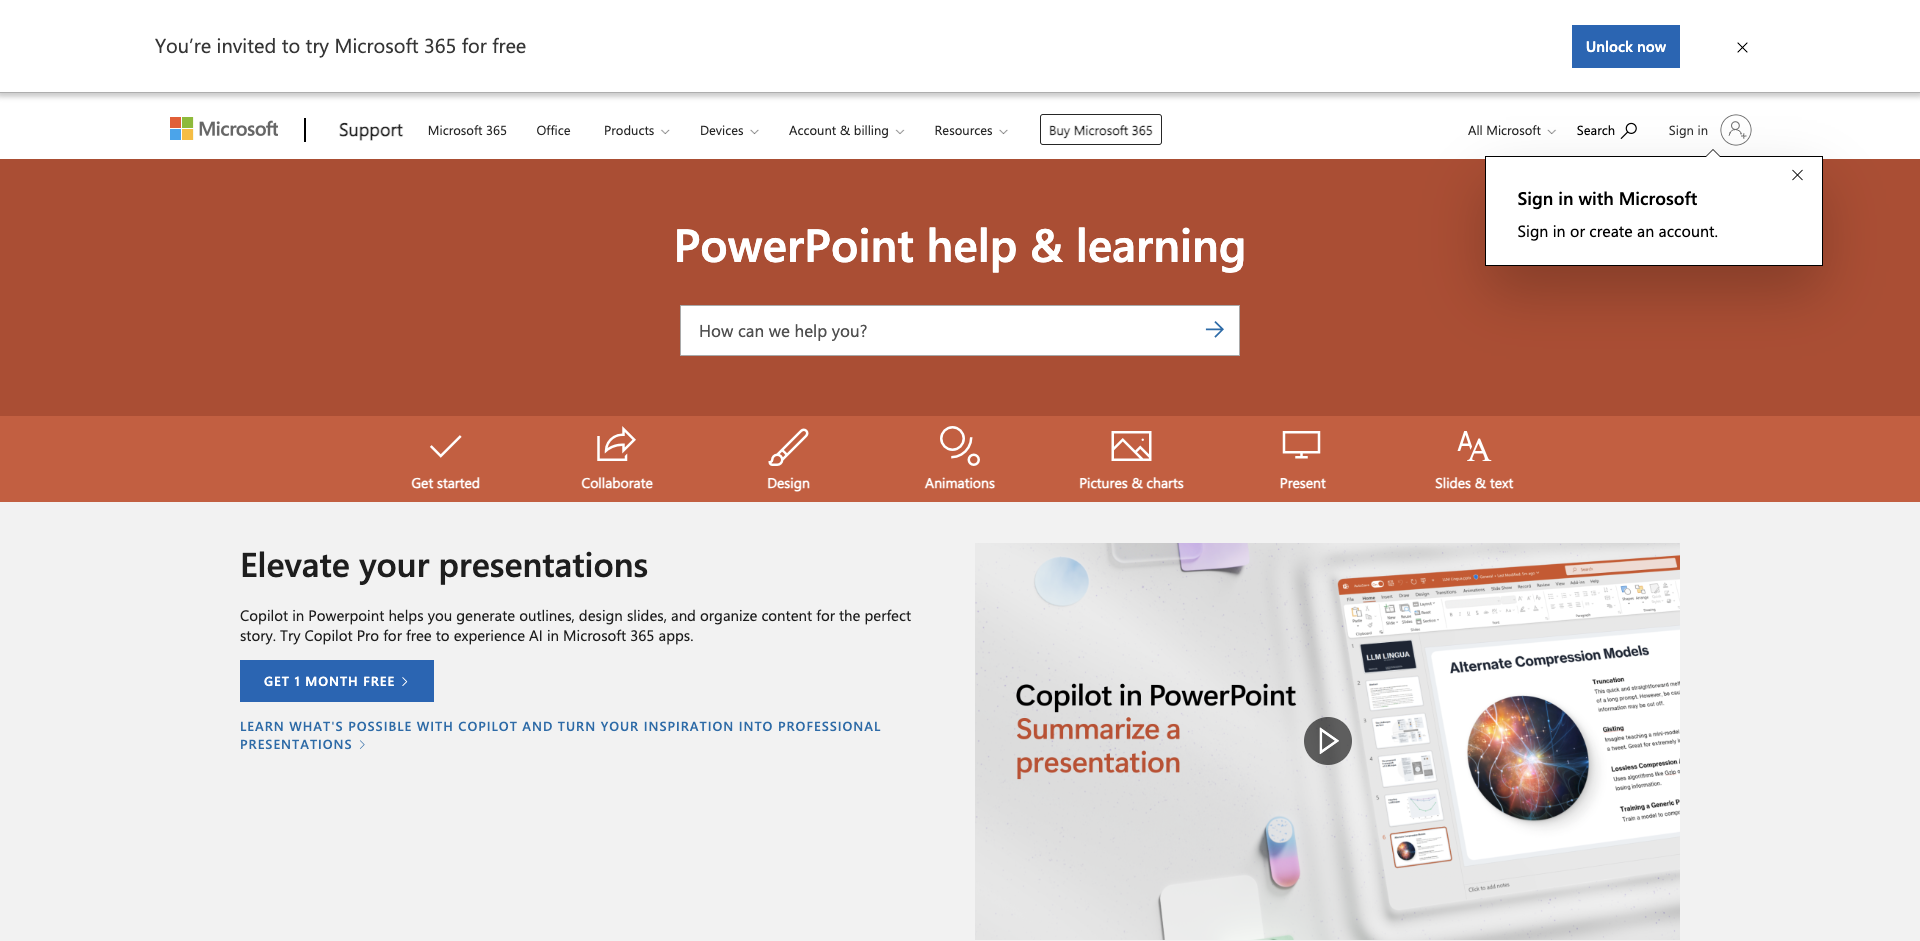button: (240, 659, 433, 702), (773, 104, 920, 156), (1452, 104, 1566, 156), (917, 104, 1024, 156), (587, 104, 686, 156), (683, 104, 775, 156), (1567, 107, 1646, 151), (1190, 305, 1240, 355), (1304, 717, 1352, 766), (1720, 26, 1764, 72)
input: (680, 305, 1240, 355)
link: (240, 717, 937, 752), (360, 415, 531, 502), (531, 415, 703, 502), (703, 415, 874, 502), (874, 415, 1046, 502), (1046, 415, 1217, 502), (1217, 415, 1389, 502), (1389, 415, 1560, 502), (160, 104, 298, 158), (1657, 107, 1760, 154), (419, 104, 516, 152), (1572, 25, 1680, 67), (329, 104, 413, 158), (1040, 114, 1162, 145), (528, 104, 579, 152), (1790, 167, 1805, 186)
menu_item: (773, 103, 913, 156), (917, 103, 1018, 156), (415, 103, 520, 152), (587, 103, 680, 156), (683, 103, 769, 156), (524, 103, 583, 152)
